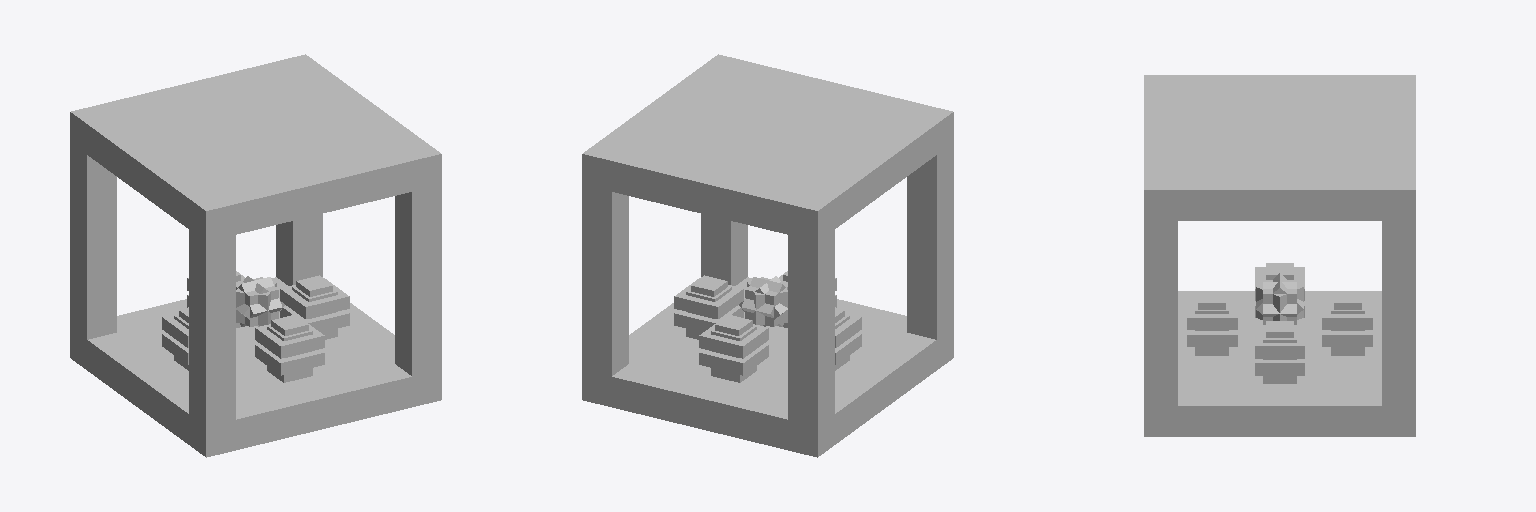
Rendered from sintezatorsolidveshestv.obj.
3 renders of one model, left to right at view 1: azimuth 30°, elevation 25°; view 2: azimuth 150°, elevation 25°; view 3: azimuth 270°, elevation 25°, orthographic.
Visible parts, largest first — view 1: cube.032, cube.023, cube.025, cube.027, cube.024, cube.026, cube.007, cube.019, cube.021, cube.009, cube.031, cube.030 (+2 smaller); view 2: cube.032, cube.023, cube.024, cube.026, cube.025, cube.027, cube.007, cube.002, cube.000, cube.009, cube.030, cube.031 (+2 smaller); view 3: cube.032, cube.023, cube.026, cube.027, cube.002, cube.019, cube.007, cube.000, cube.021, cube.009, cube.031, cube.030.
Boxes of the visible parts, x1,y1,x2,y2 form: cube.032: [70, 54, 441, 241]; cube.023: [70, 277, 441, 457]; cube.025: [189, 230, 235, 426]; cube.027: [395, 185, 441, 376]; cube.024: [70, 143, 116, 339]; cube.026: [276, 214, 322, 285]; cube.007: [280, 278, 349, 318]; cube.019: [255, 317, 324, 358]; cube.021: [255, 344, 324, 375]; cube.009: [280, 305, 349, 332]; cube.031: [236, 278, 276, 325]; cube.030: [238, 277, 281, 326]; cube.032: [582, 54, 953, 241]; cube.023: [582, 277, 953, 457]; cube.024: [788, 230, 834, 426]; cube.026: [582, 185, 628, 376]; cube.025: [907, 143, 953, 339]; cube.027: [701, 214, 747, 285]; cube.007: [674, 278, 743, 318]; cube.002: [699, 317, 768, 358]; cube.000: [699, 344, 768, 375]; cube.009: [674, 305, 743, 332]; cube.030: [742, 277, 785, 326]; cube.031: [747, 278, 787, 325]; cube.032: [1144, 75, 1415, 220]; cube.023: [1144, 291, 1415, 436]; cube.026: [1382, 221, 1415, 405]; cube.027: [1144, 221, 1177, 405]; cube.002: [1322, 296, 1372, 329]; cube.019: [1187, 296, 1237, 329]; cube.007: [1255, 325, 1304, 358]; cube.000: [1322, 330, 1372, 346]; cube.021: [1187, 330, 1237, 346]; cube.009: [1255, 359, 1304, 375]; cube.031: [1256, 284, 1303, 320]; cube.030: [1256, 273, 1303, 320].
Size of the model in its own units: 1 by 1 by 1.